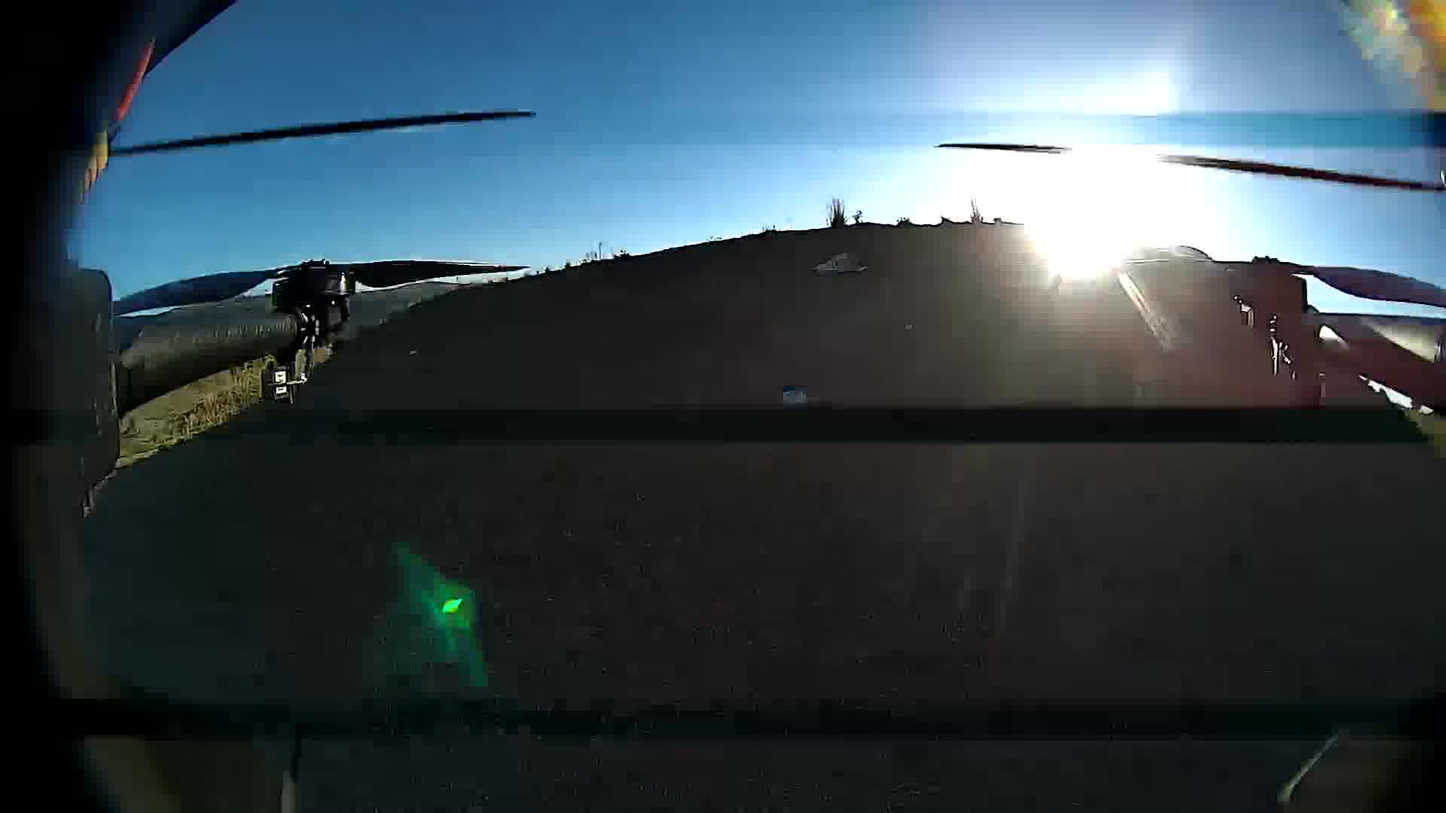Target: (777, 385, 813, 407)
